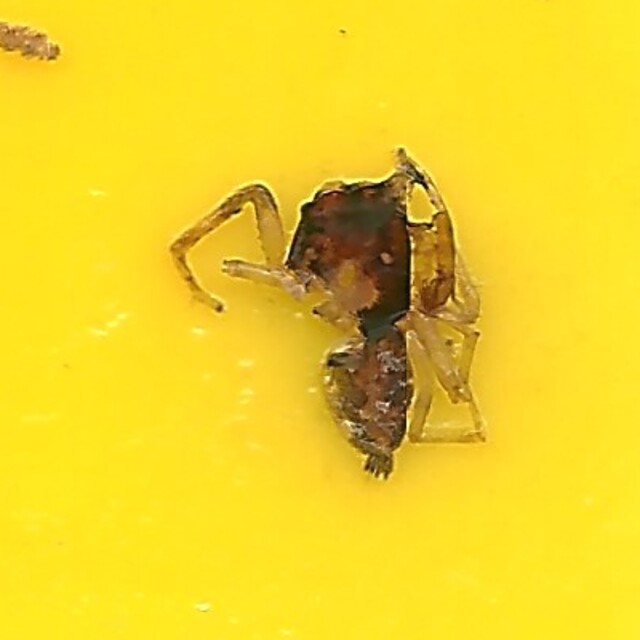Nematocera: (160, 147, 480, 493)
